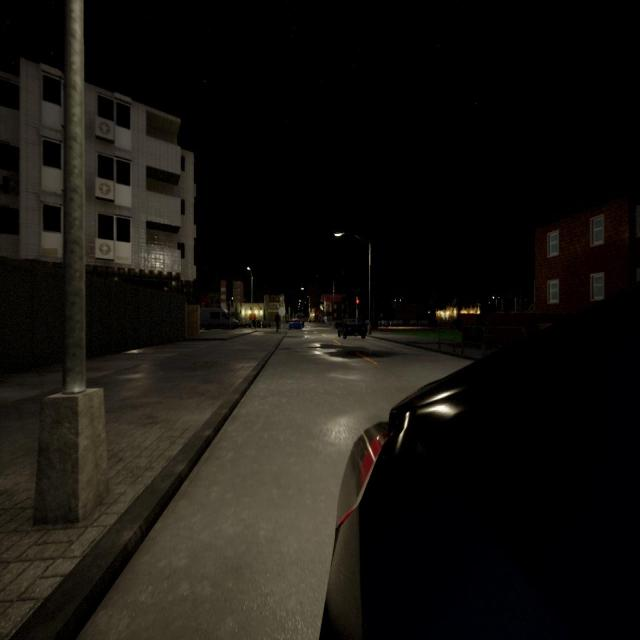Pedestrian: (274, 310, 282, 331)
Vehicle: (320, 298, 640, 639), (201, 307, 240, 330), (338, 319, 366, 339), (290, 318, 302, 330)
traffic_light: (356, 299, 359, 309)
